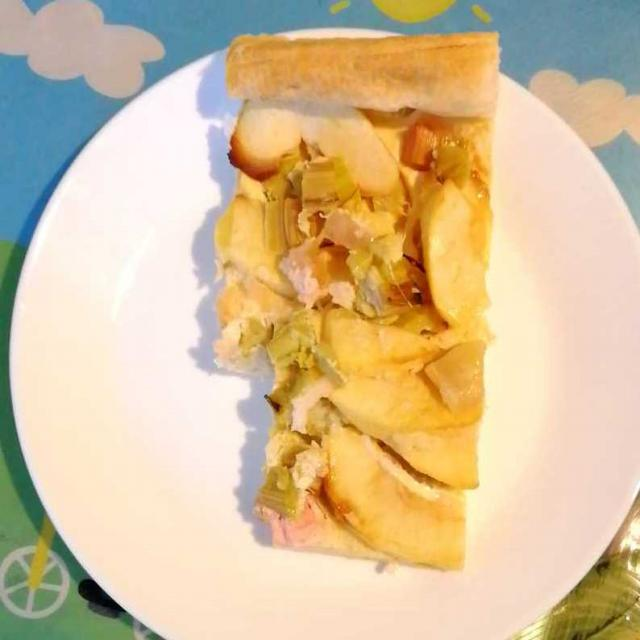apple-pie: (224, 43, 492, 560)
